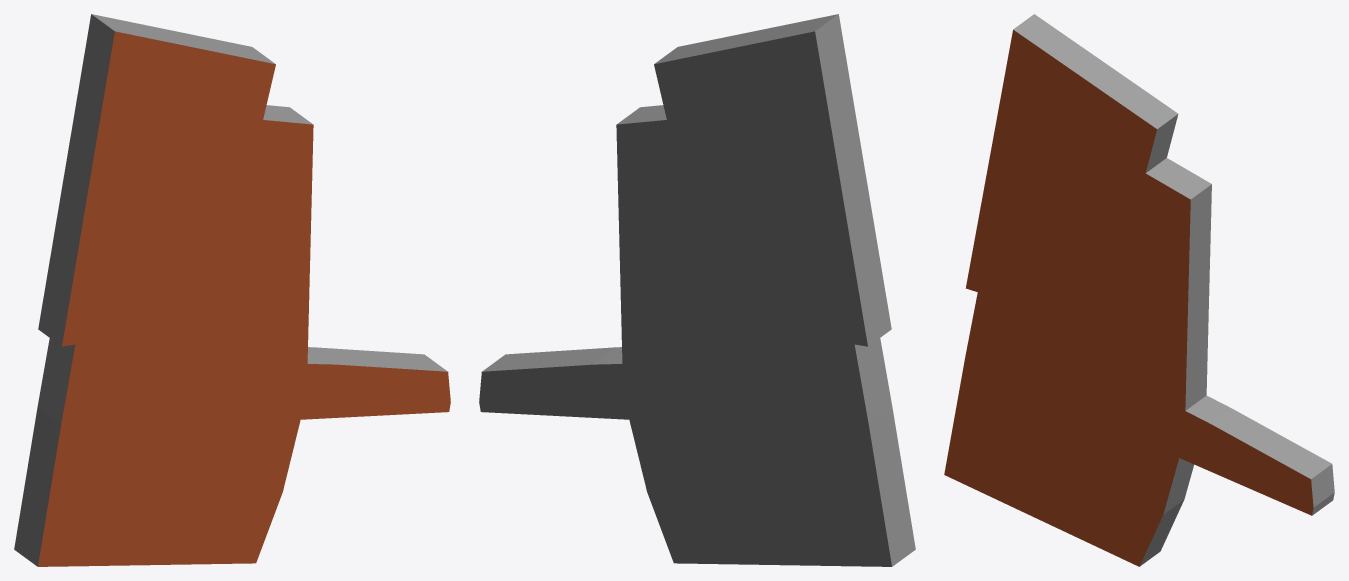
The model's file is construction_7173_assumed_A_Ruinas_h6m.obj.
3 renders of one model, left to right at view 1: azimuth 30°, elevation 25°; view 2: azimuth 150°, elevation 25°; view 3: azimuth 330°, elevation 25°, orthographic. The views are drawn at different scales.
Parts seen in each view (by area): view 1: construction_7173_assumed_A_Ruinas; view 2: construction_7173_assumed_A_Ruinas; view 3: construction_7173_assumed_A_Ruinas.
Part boxes in pixels (x1=…): construction_7173_assumed_A_Ruinas: x1=14, y1=14, x2=450, y2=566; construction_7173_assumed_A_Ruinas: x1=479, y1=14, x2=915, y2=566; construction_7173_assumed_A_Ruinas: x1=944, y1=14, x2=1334, y2=566.
Bounding box in the file's own units: 60.27 × 79 × 6.
